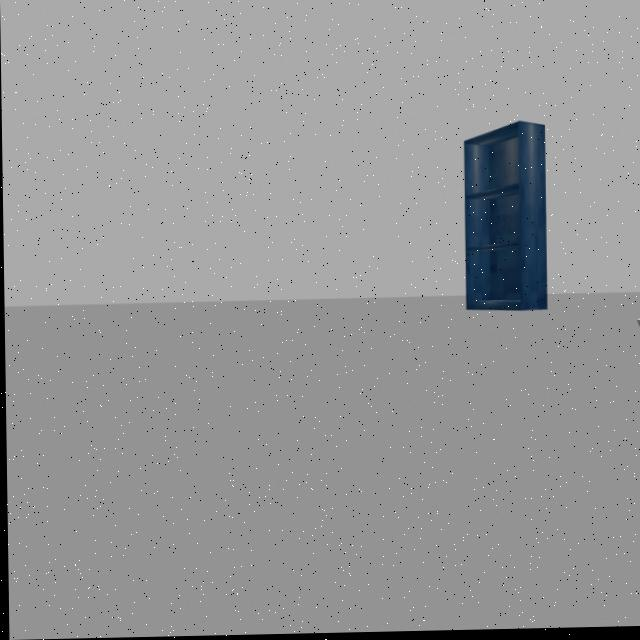bowl: (634, 314, 640, 347)
shelf: (453, 115, 571, 325)
